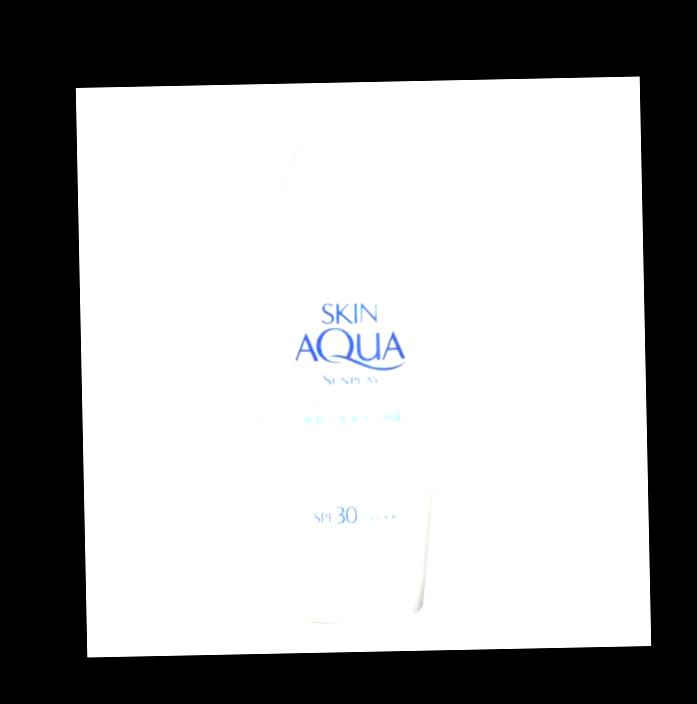cosmetic: (265, 123, 435, 612)
